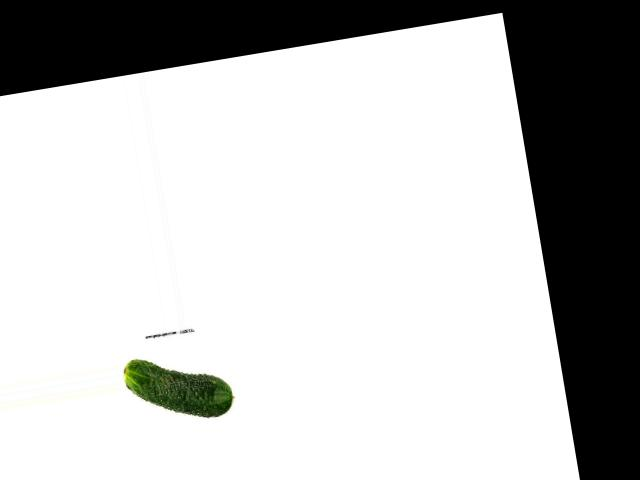cucumber: (122, 344, 236, 430)
